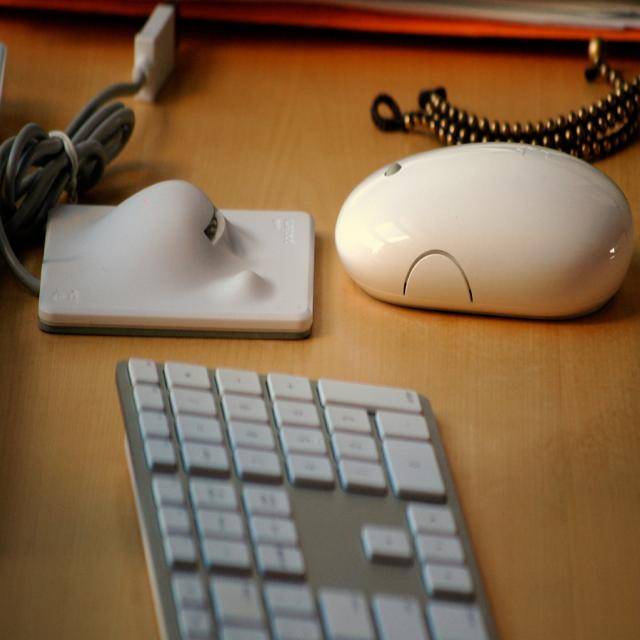Computer-mouse: (336, 133, 635, 320)
